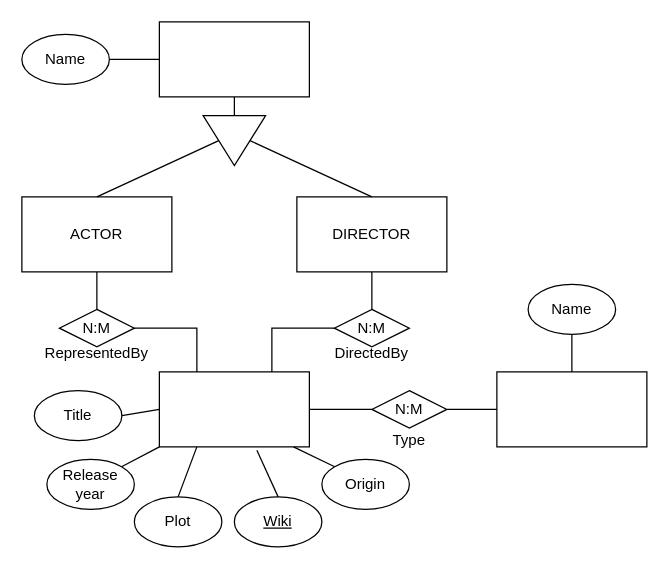
Image size: 669x569. Some labels were removed from this diagram. Each missing label, with the centre of its shape:
"GENRE" goes at (571,409).
"MOVIE" goes at (233,409).
"PERSON" goes at (233,59).
